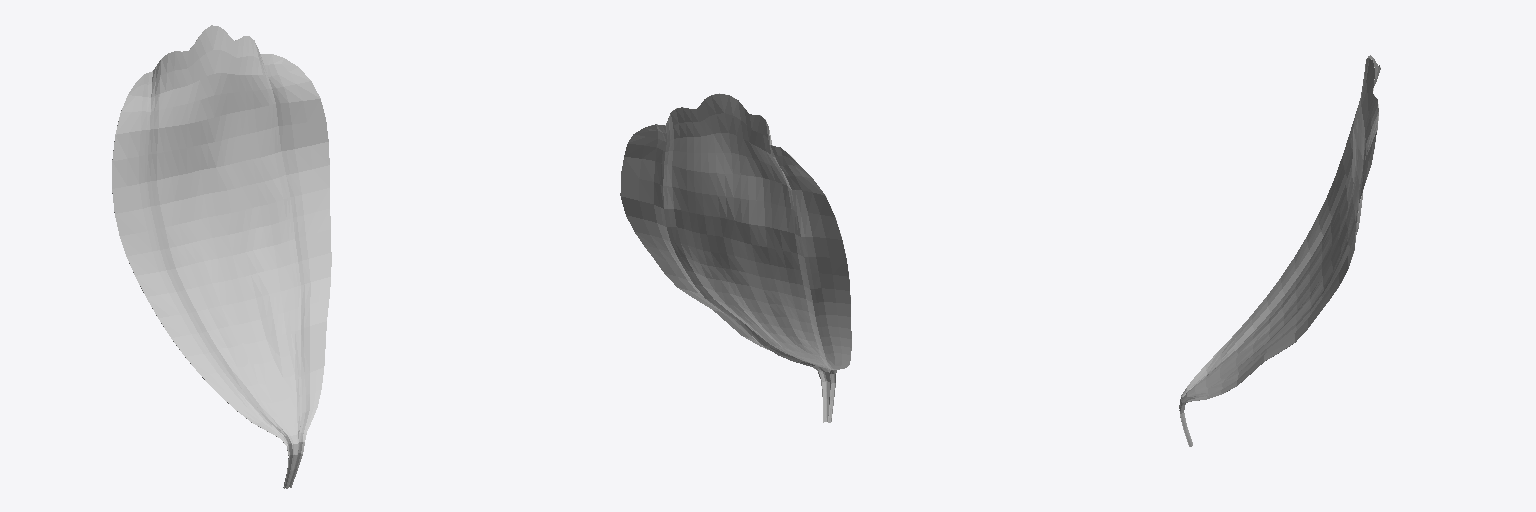
Rendered from petal3.obj.
3 renders of one model, left to right at view 1: azimuth 30°, elevation 25°; view 2: azimuth 150°, elevation 25°; view 3: azimuth 270°, elevation 25°, orthographic.
Parts seen in each view (by area): view 1: facb_petal_3; view 2: facb_petal_3; view 3: facb_petal_3.
Part boxes in pixels (left/top/right/bottom): facb_petal_3: left=112, top=25, right=331, bottom=488; facb_petal_3: left=620, top=93, right=851, bottom=422; facb_petal_3: left=1179, top=55, right=1380, bottom=446.
Size of the model in its own units: 1.21 by 2.06 by 0.9611.